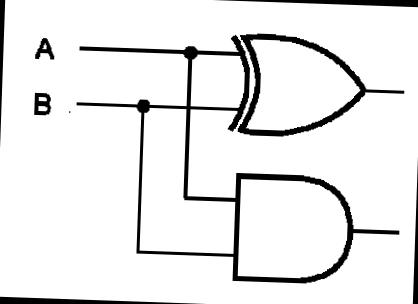and: (226, 165, 362, 292)
xor: (222, 27, 376, 144)
